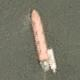ship: (0, 0, 18, 39)
